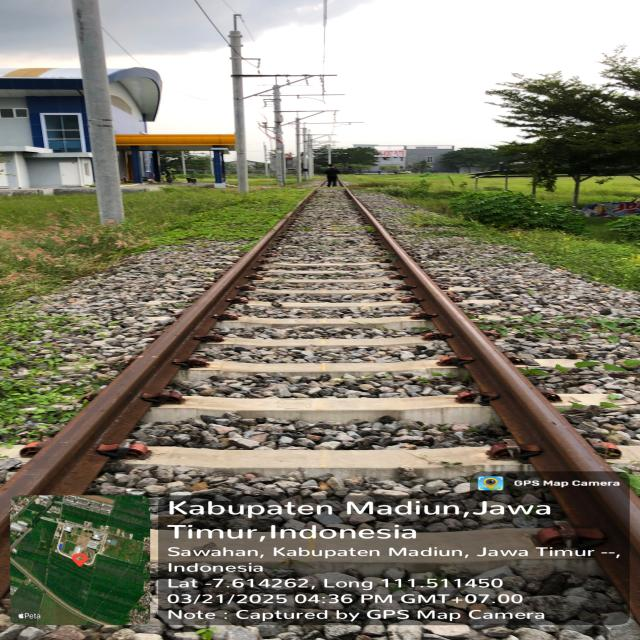rail-detection: (345, 190, 640, 622), (0, 216, 290, 537)
